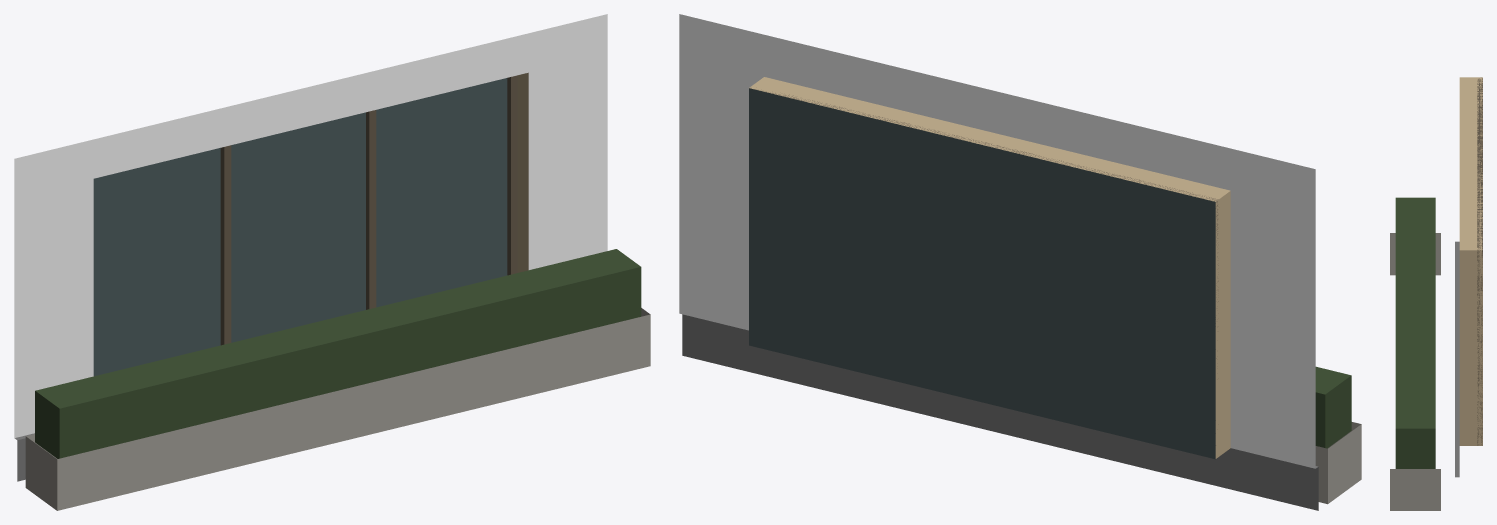
Rendered from base-w1_close.fbx.
3 renders of one model, left to right at view 1: azimuth 30°, elevation 25°; view 2: azimuth 150°, elevation 25°; view 3: azimuth 270°, elevation 25°, orthographic. The views are drawn at different scales.
Visible parts, largest first — view 1: a2019/500/base-w1_close; view 2: a2019/500/base-w1_close; view 3: a2019/500/base-w1_close.
Part boxes in pixels (box(x1,y1,x2,y2)): a2019/500/base-w1_close: box(14, 14, 650, 510); a2019/500/base-w1_close: box(679, 14, 1361, 510); a2019/500/base-w1_close: box(1390, 77, 1482, 510).
Size of the model in its own units: 6 by 3.1 by 1.
